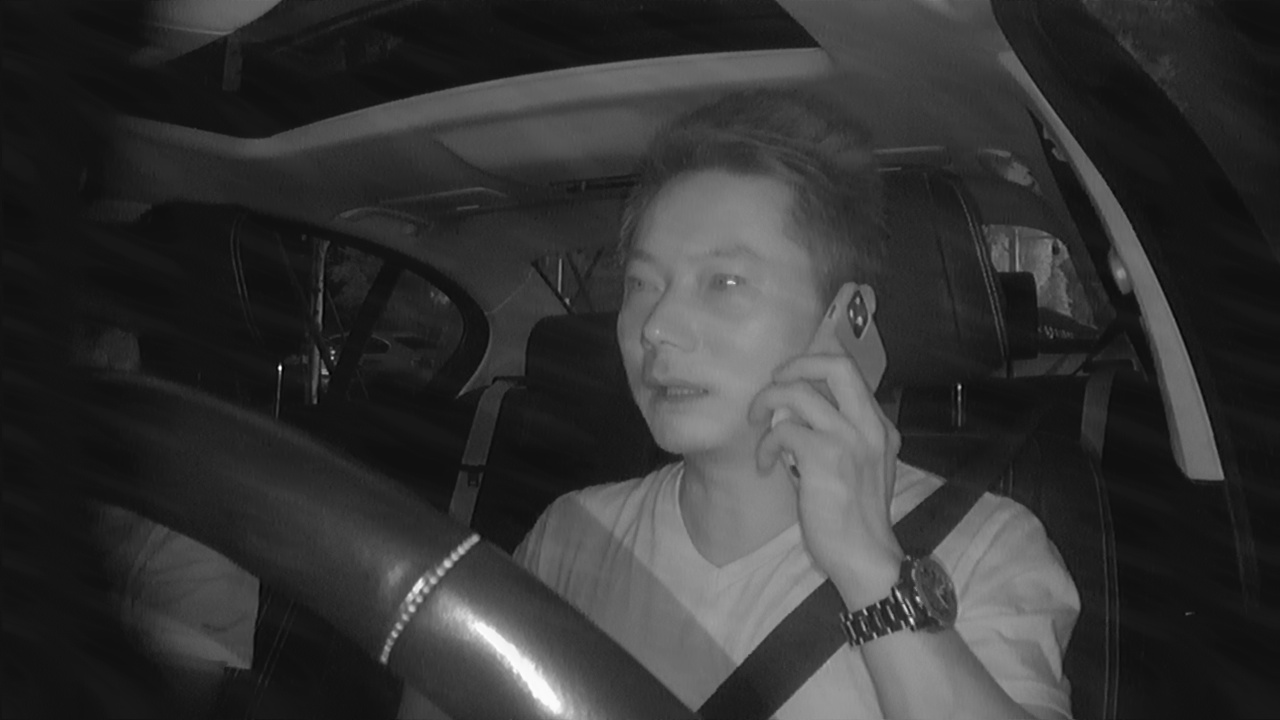hand: (748, 341, 904, 549)
